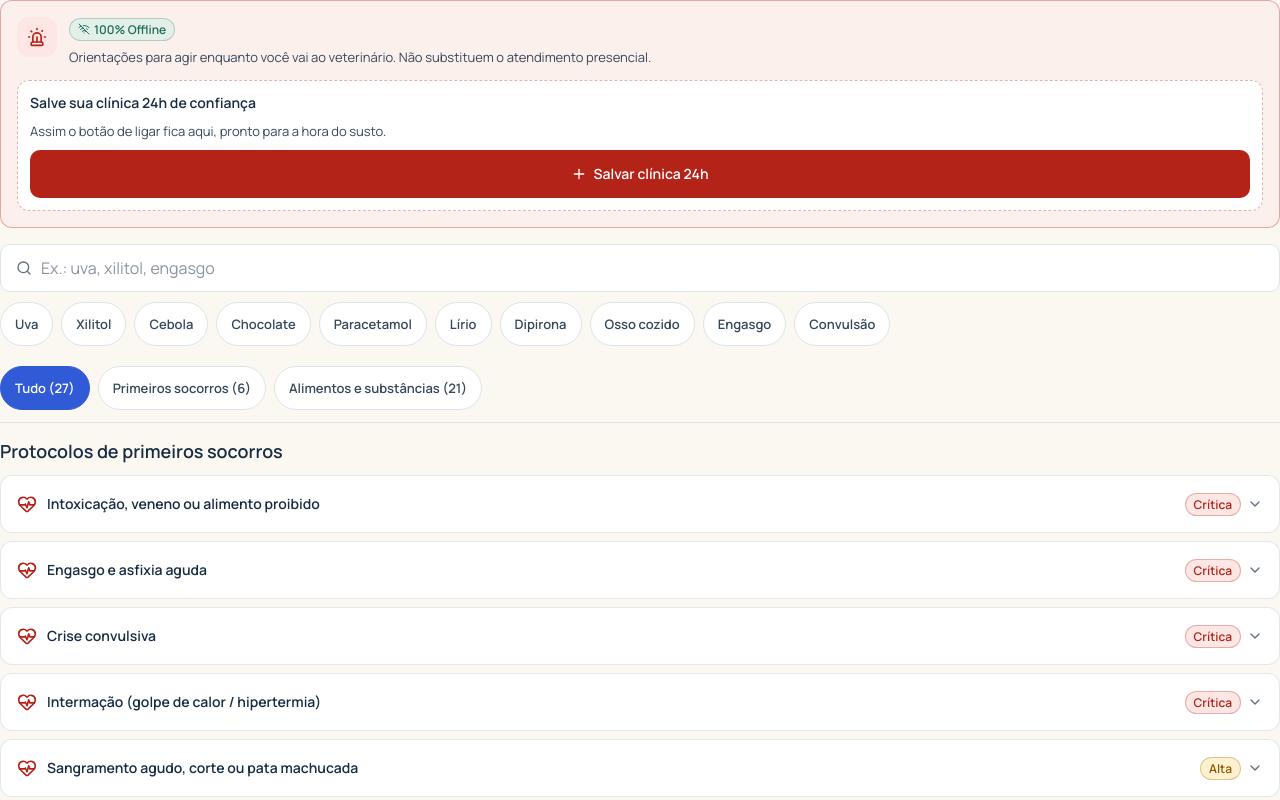
Test: FirstAidGuide › permite acionar pílulas rápidas de pânico como Uva e Engasgo
The image size is (1280, 800).
Click the button "Engasgo" at (744, 324), box [703,302,786,346]
(page scrolled)
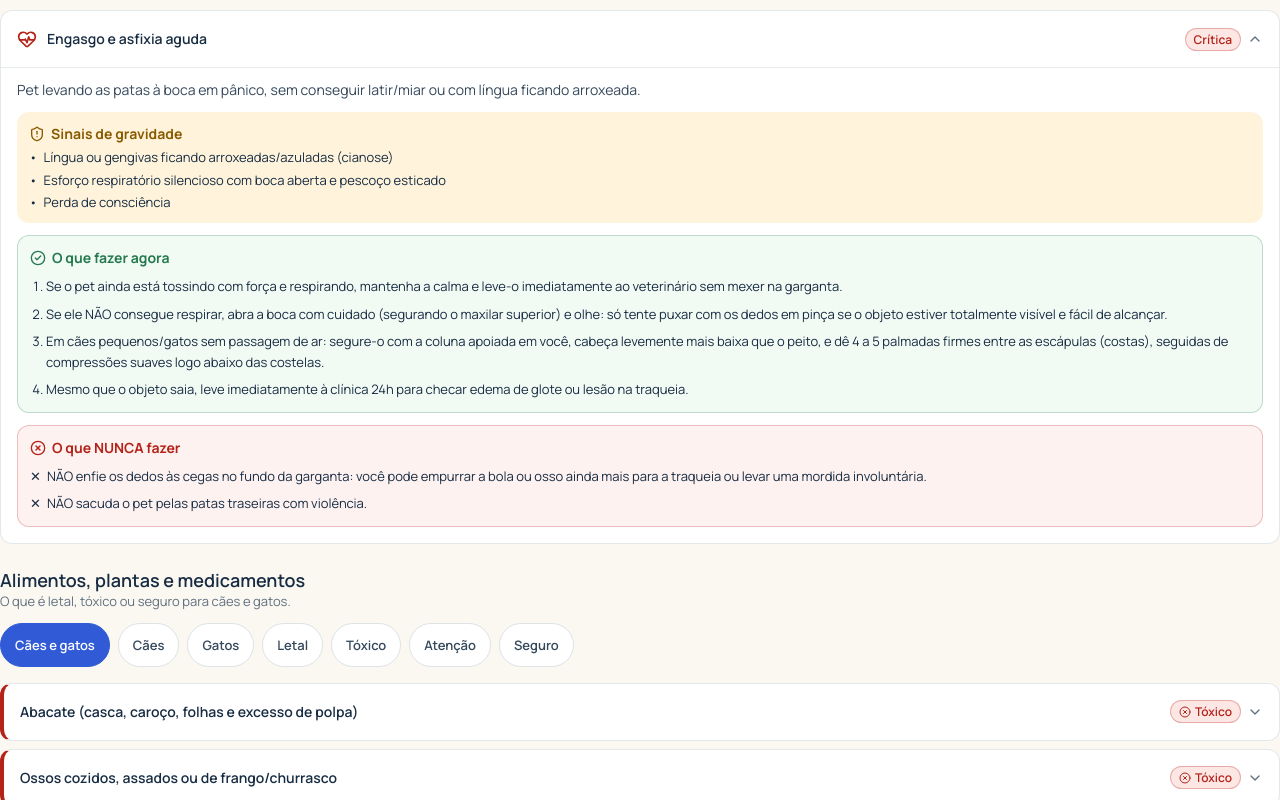
Expected: the heading "Engasgo e asfixia aguda" is shown, [47,29,207,49]
Now the text "O que NUNCA fazer" is shown, box [30,438,180,457]
